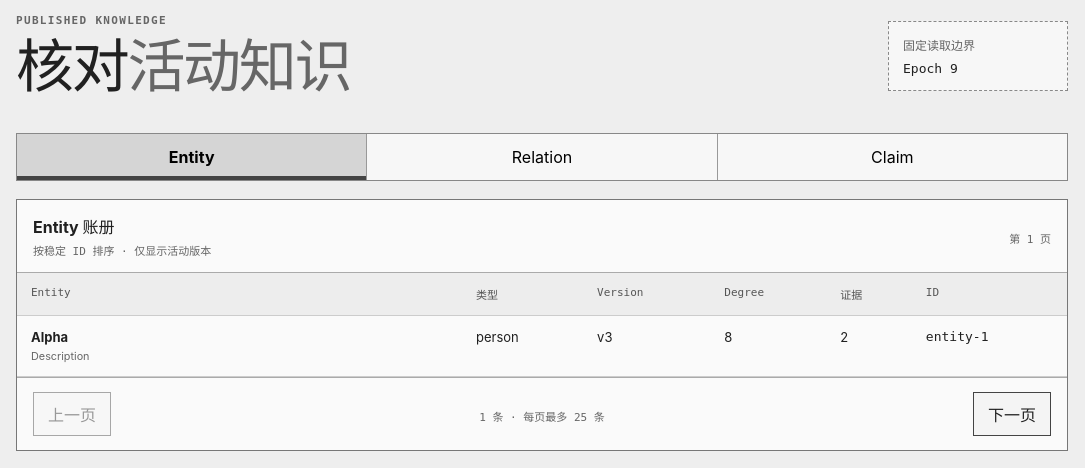
Test case: KnowledgePage › switches to the fixed Claim page and shows 证据 sources
Click the button "Claim" at (892, 157), box 718,134 -> 1067,180
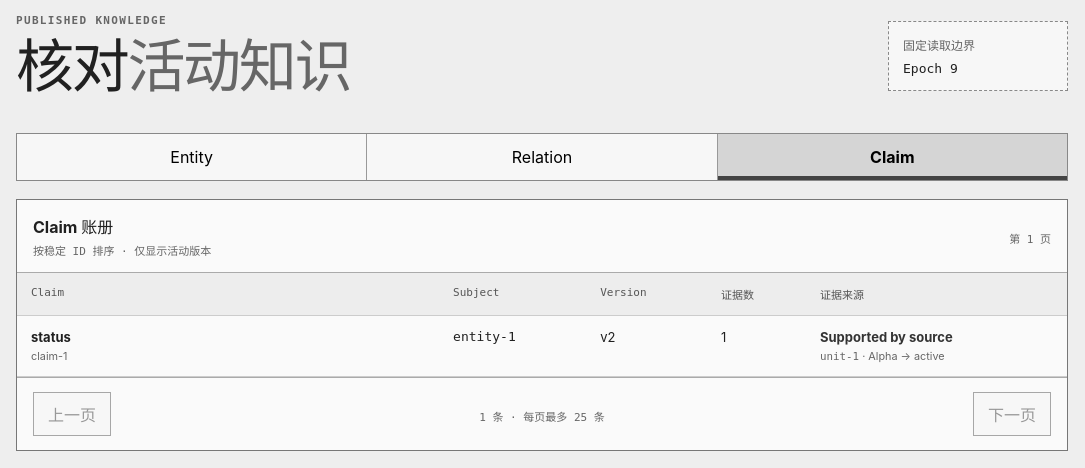
Expected: the text "claim-1" is shown, 31,350 -> 67,363
Expected: the text "Supported by source" is shown, 820,329 -> 953,345
Expected: the text "unit-1" is shown, 820,350 -> 859,363
